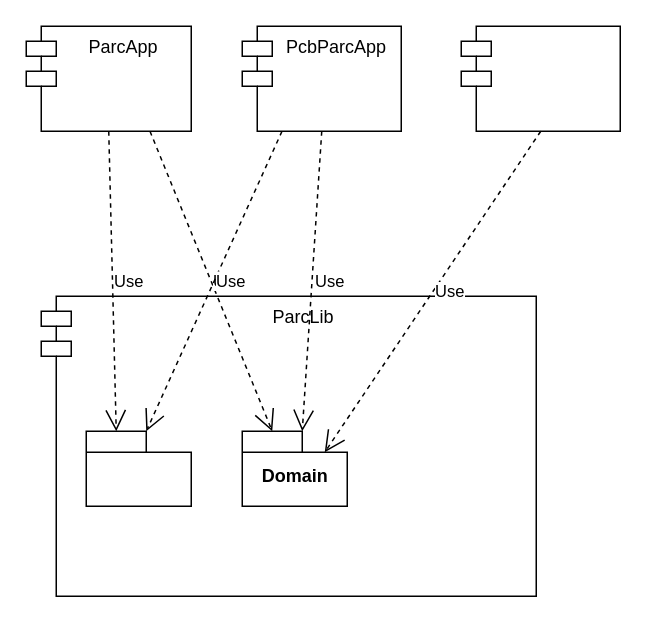
The diagram is 647 pixels wide and 623 high, and some of its shapes have lost their labels. Each missing label, with the box of its shape:
Feather: (85, 430, 191, 506)
UnoParcApp: (460, 25, 620, 131)
